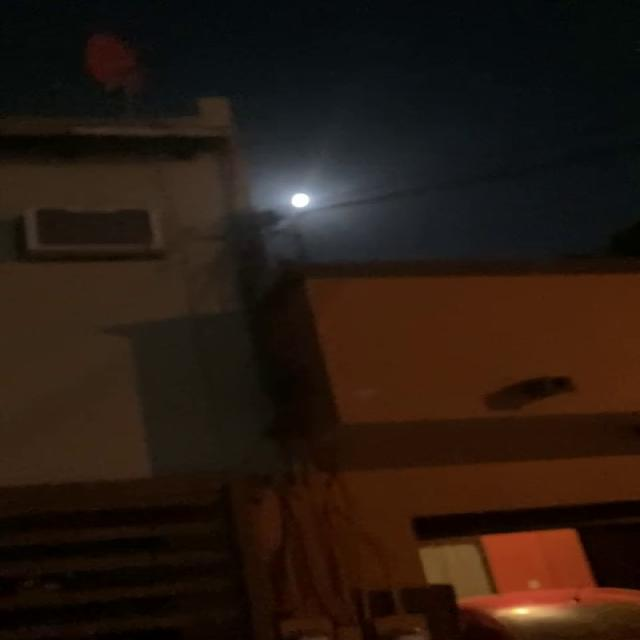moon: (280, 190, 326, 220)
